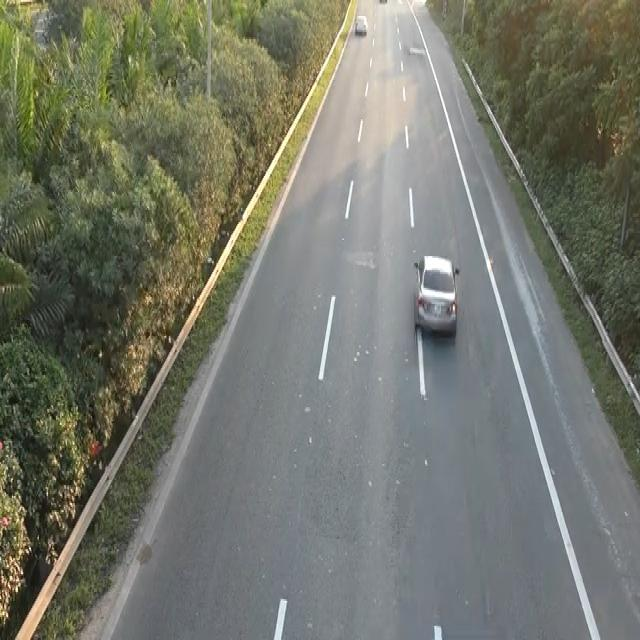bus: (411, 250, 460, 338)
